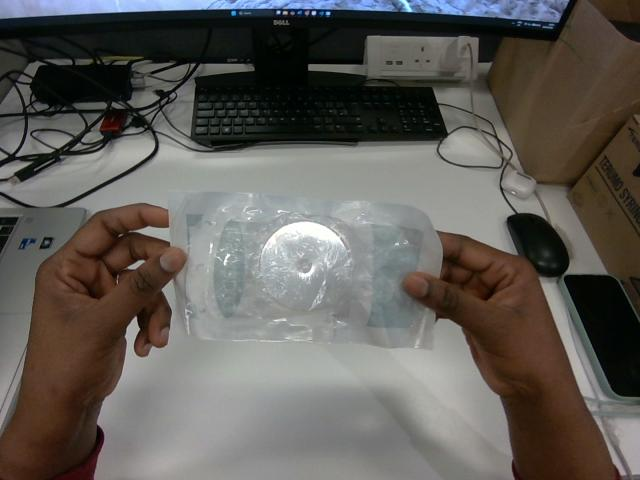gallipot: (169, 192, 441, 347)
